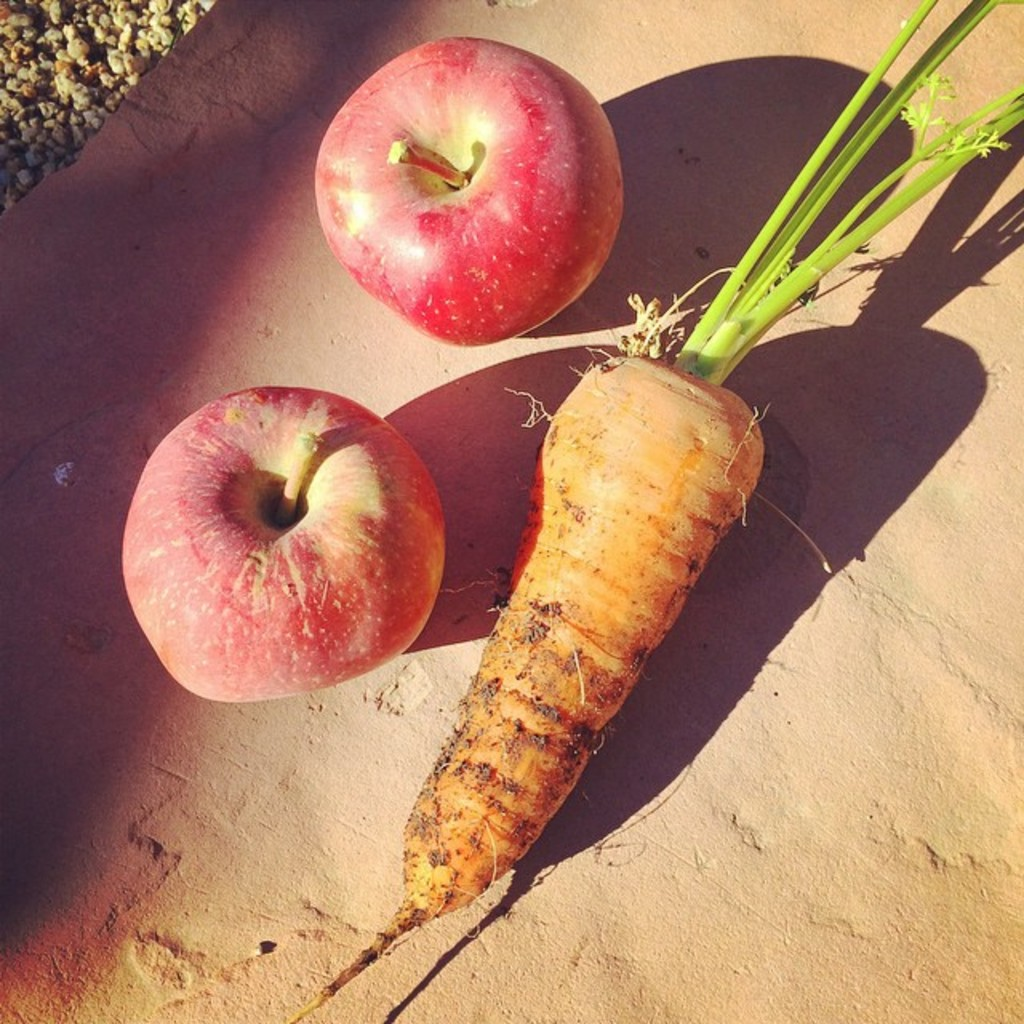Apple: (115, 377, 446, 705), (323, 35, 624, 350)
